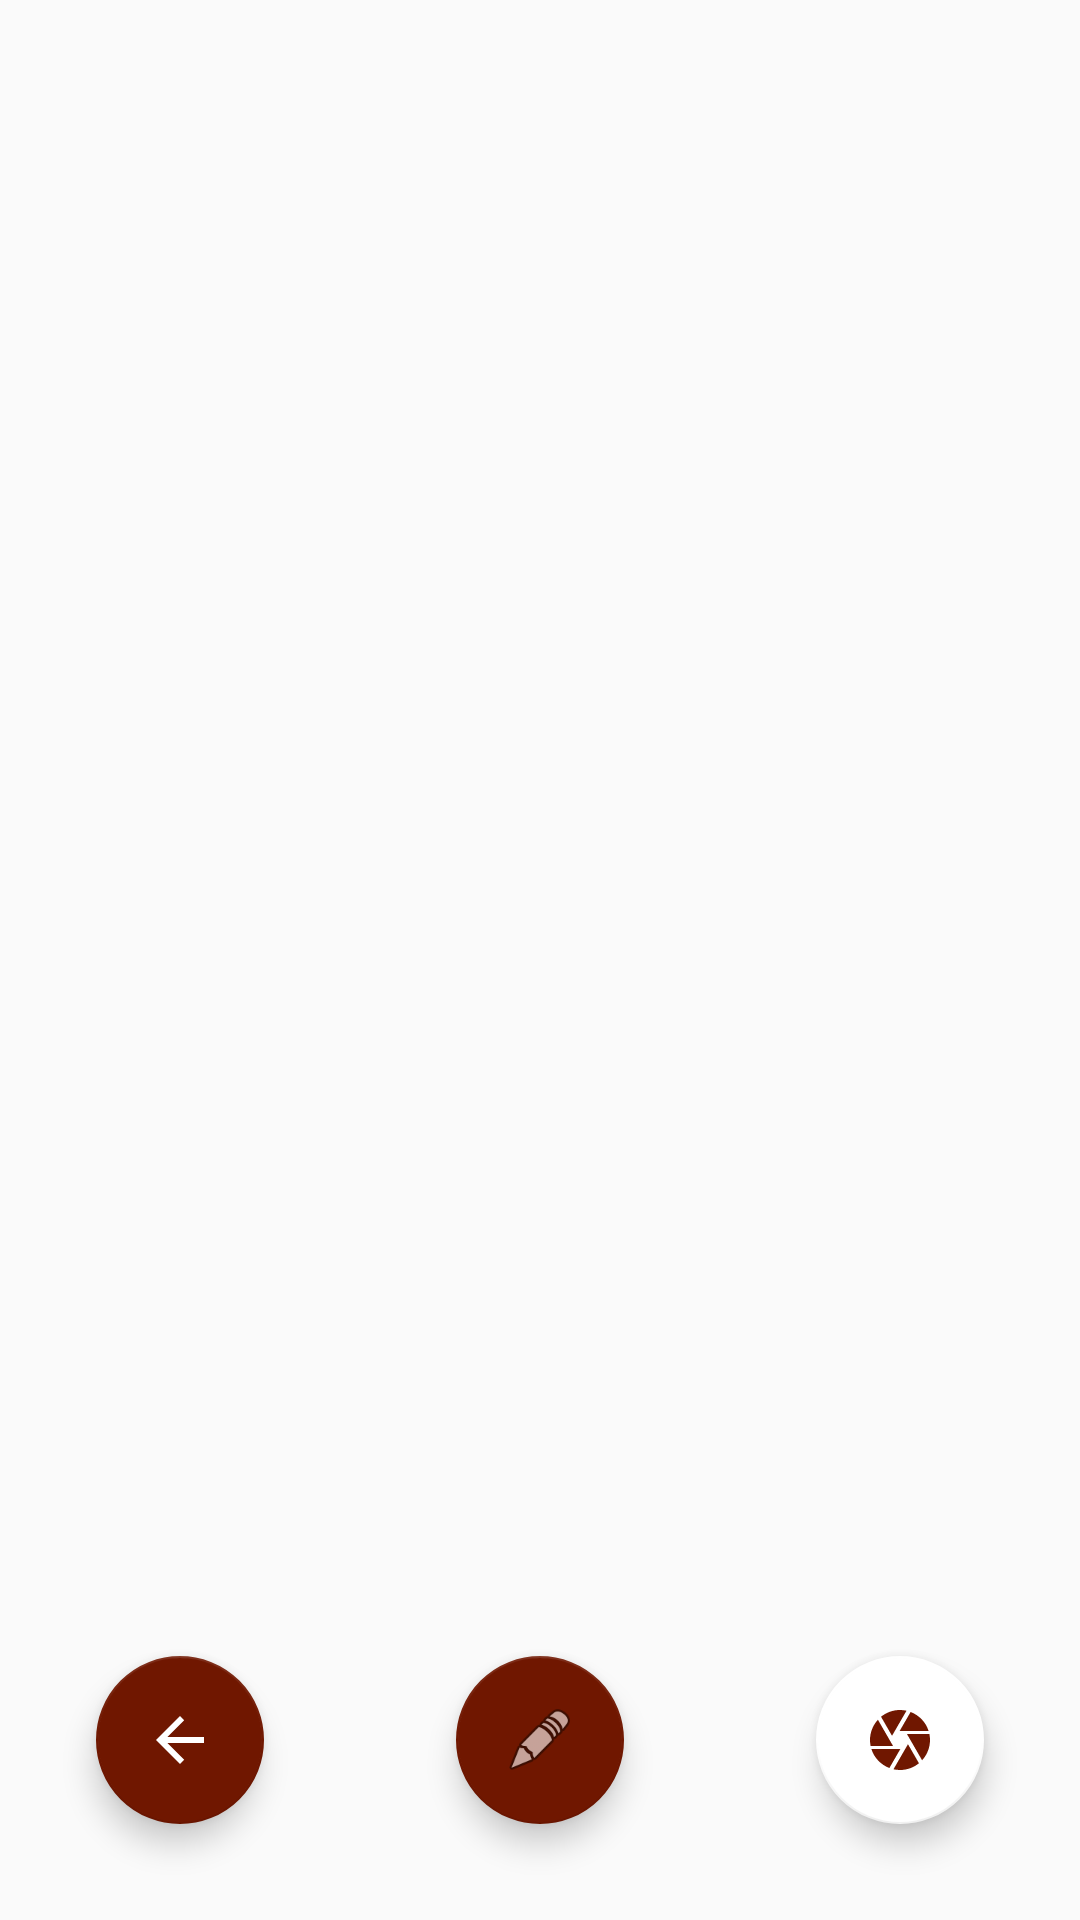

Where icons sit on this 1080*1920 app screen, as (x1, y1, x2, y2):
edit: (456, 1656, 624, 1824)
